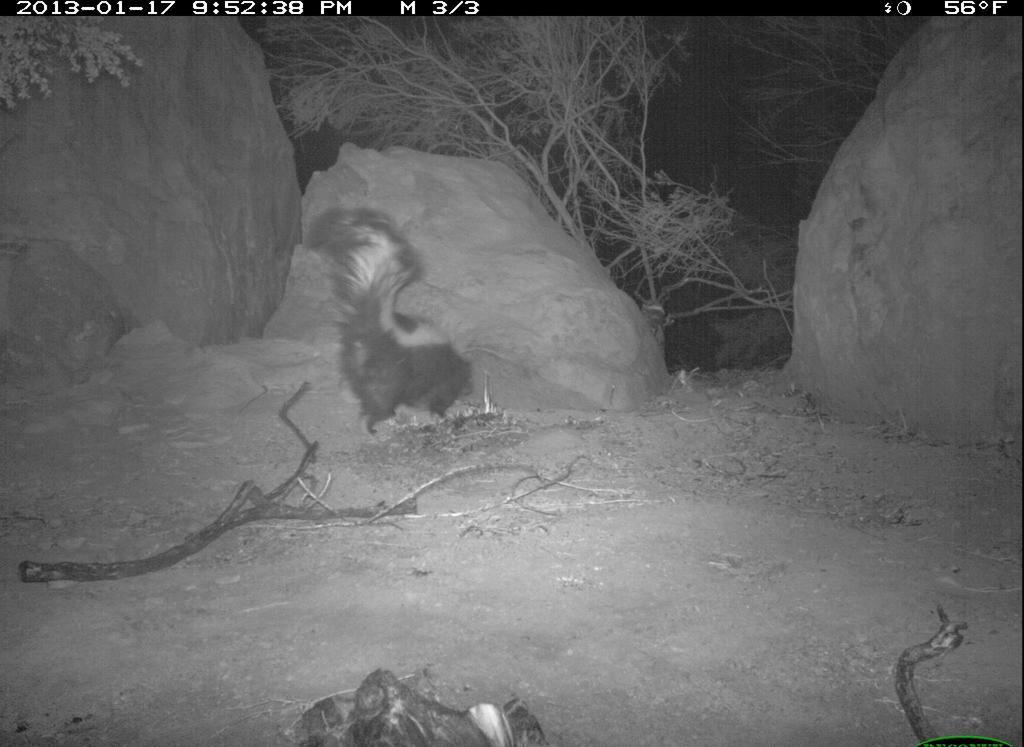skunk: (296, 185, 505, 449)
